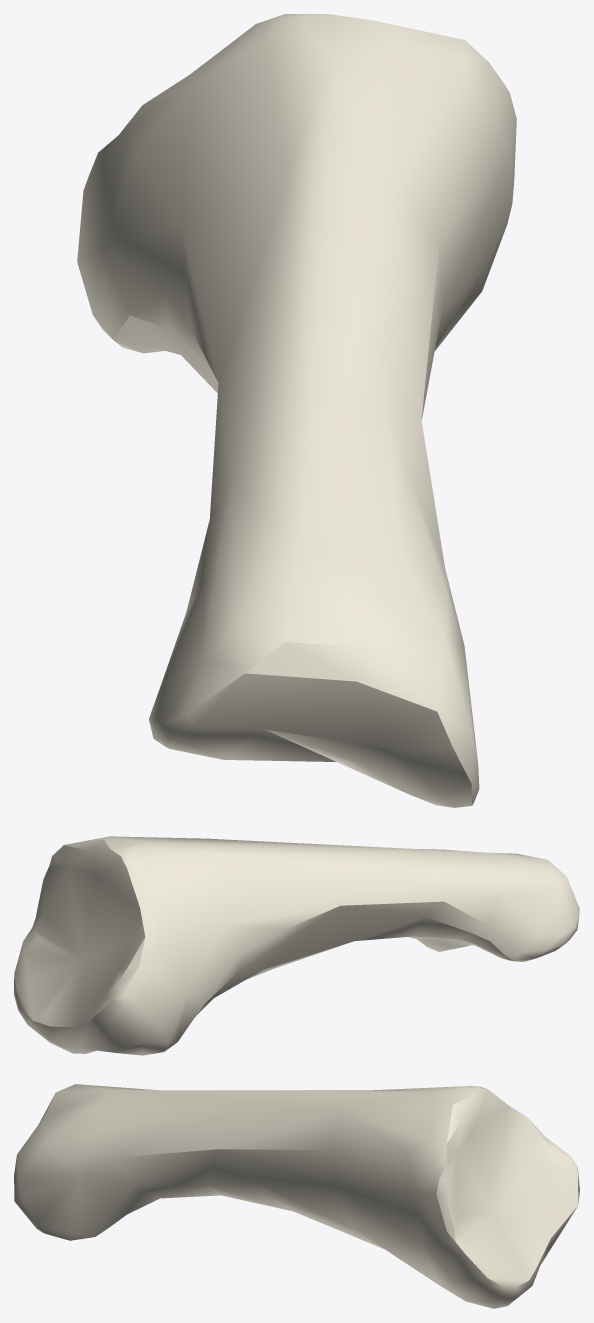
File: fma32636_fj6416m.glb
3 views of the same model, one above another, from view 1: azimuth 30°, elevation 25°; view 2: azimuth 150°, elevation 25°; view 3: azimuth 270°, elevation 25° (orthographic). The views are drawn at different scales.
Visible parts, largest first — view 1: FMA32636_FJ6416M; view 2: FMA32636_FJ6416M; view 3: FMA32636_FJ6416M.
Boxes of the visible parts, x1,y1,x2,y2 form: FMA32636_FJ6416M: (77, 14, 516, 807); FMA32636_FJ6416M: (14, 836, 579, 1055); FMA32636_FJ6416M: (14, 1084, 579, 1308).
Size of the model in its own units: 0.0207 by 0.0117 by 0.0281.
